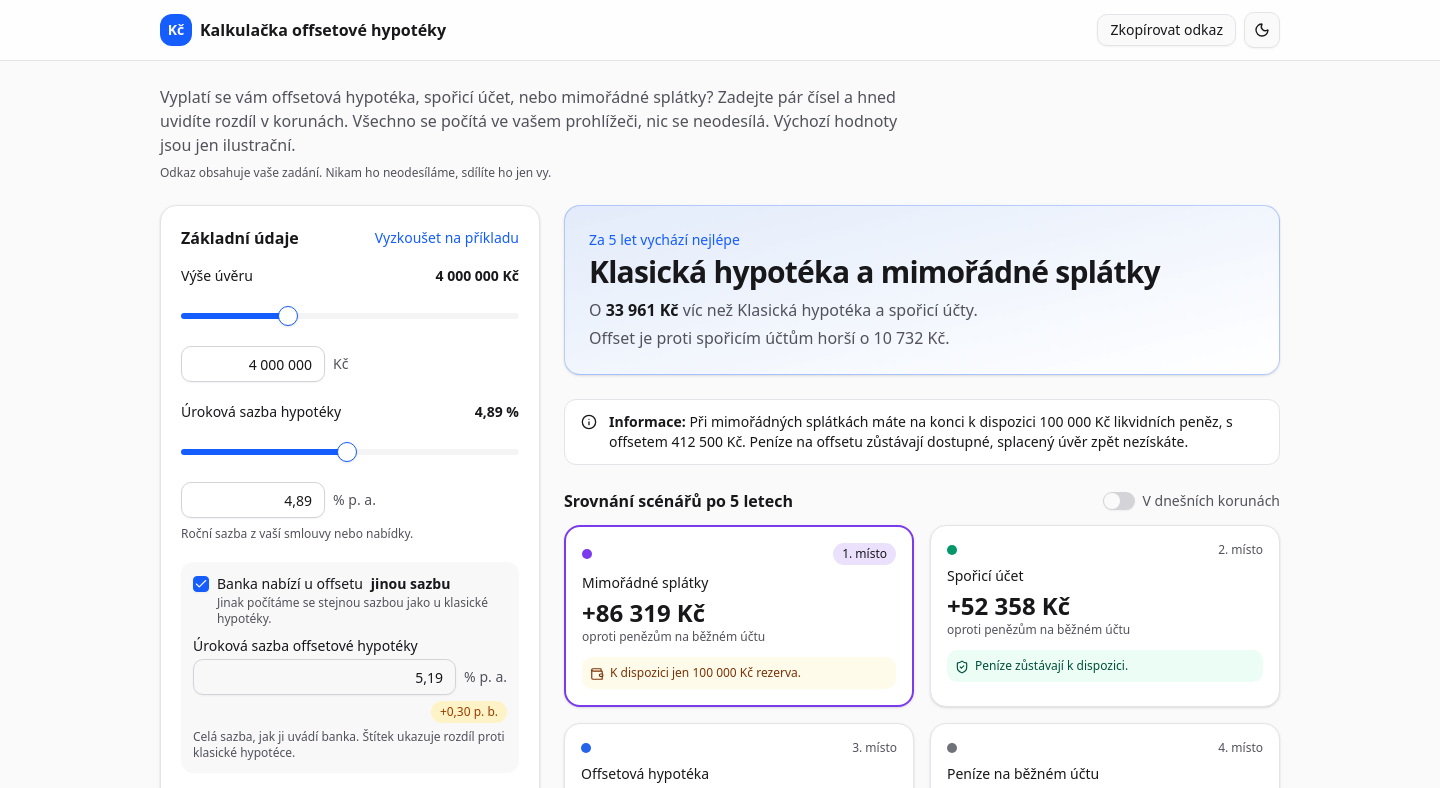
Test: the copy button copies the link and confirms
The width and height of the screenshot is (1440, 788).
Click the button "Zkopírovat odkaz": coordinates (1167, 30) [1098,14,1236,46]
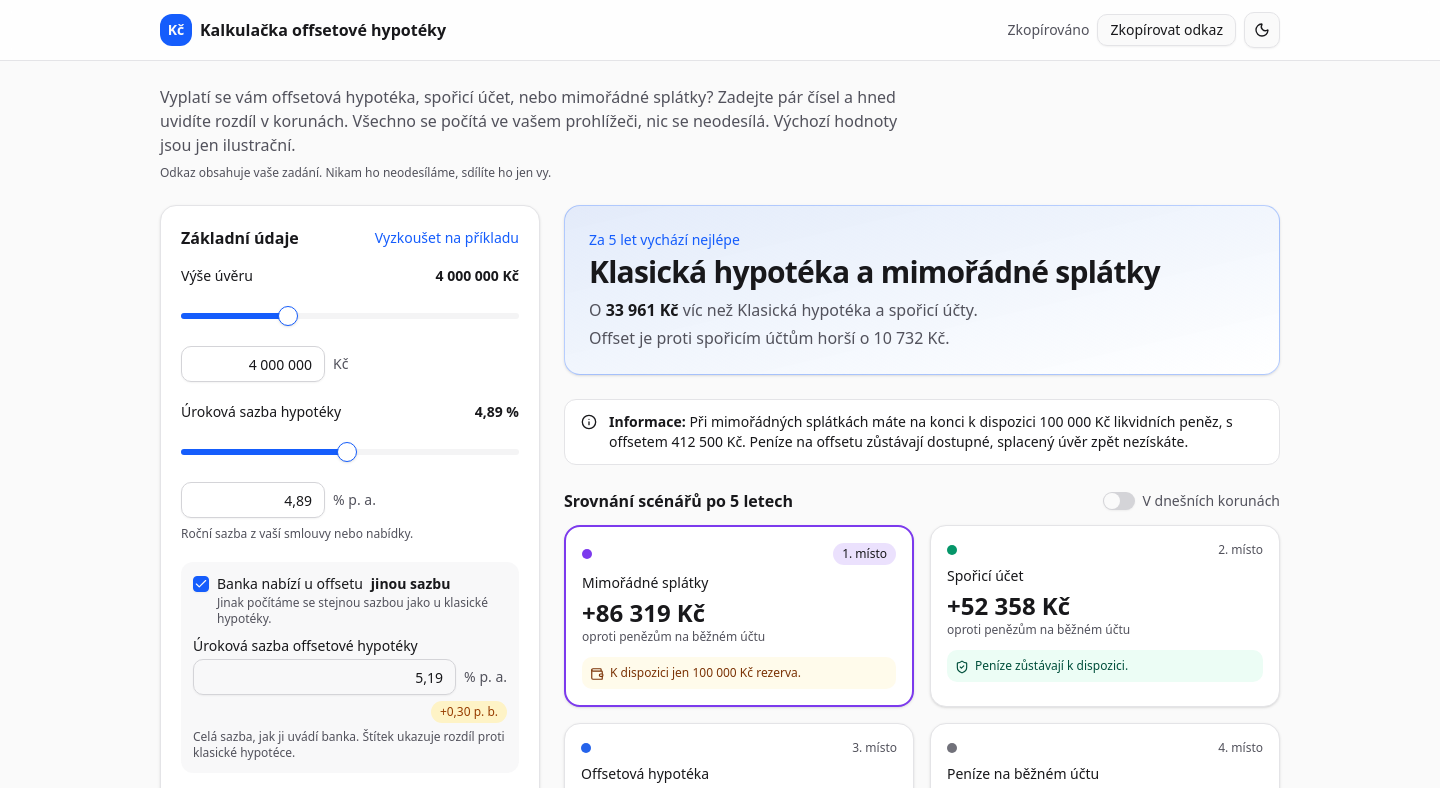
expect the text "Nikam ho neodesíláme" is shown: met, box [160,164,551,181]
expect the text "Zkopírováno" is shown: met, box [1008,20,1090,40]
